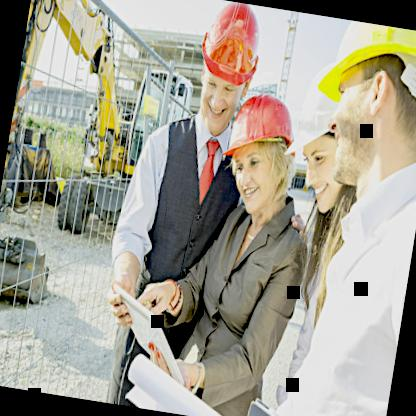helmet: (300, 16, 416, 200), (278, 58, 372, 218), (184, 0, 265, 135), (217, 90, 301, 220)
